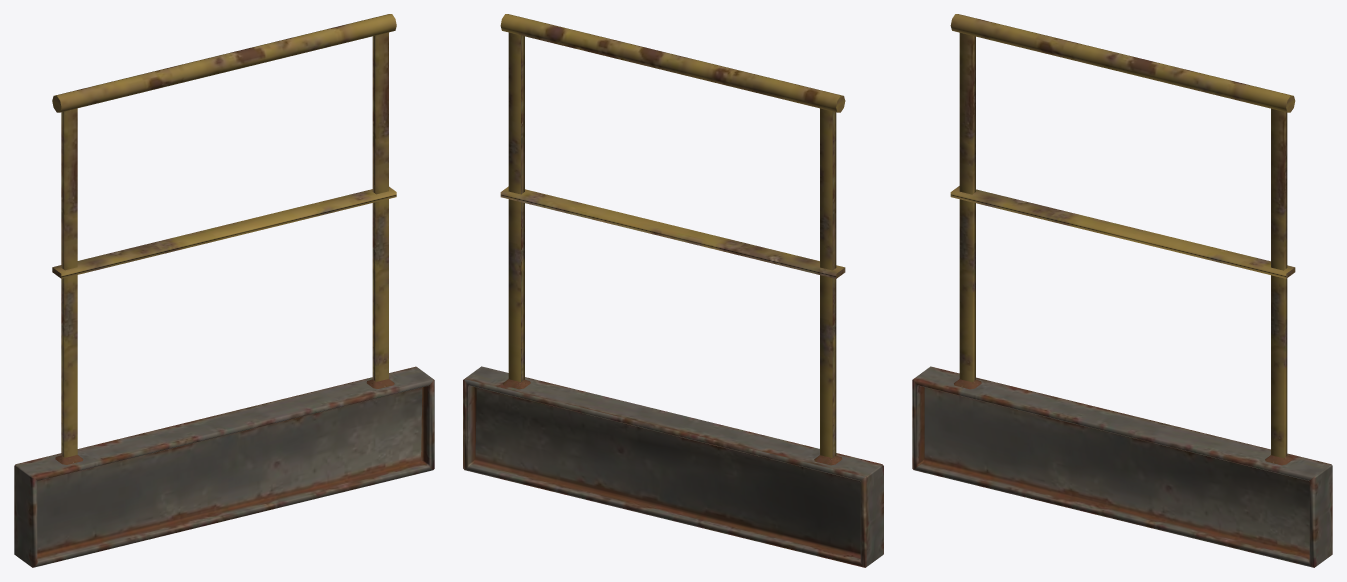
File: stairs_barrier_150.glb
The picture shows the model from 3 angles, left to right: view 1: azimuth 30°, elevation 25°; view 2: azimuth 150°, elevation 25°; view 3: azimuth 330°, elevation 25°; orthographic projection.
Parts seen in each view (by area): view 1: stairs_barrier_150; view 2: stairs_barrier_150; view 3: stairs_barrier_150.
Part boxes in pixels (bbox=[...]): stairs_barrier_150: bbox=[14, 14, 434, 567]; stairs_barrier_150: bbox=[463, 14, 883, 567]; stairs_barrier_150: bbox=[912, 14, 1332, 567].
Bounding box in the file's own units: 1.5 × 1.63 × 0.12.
1 material, 1 textured.
